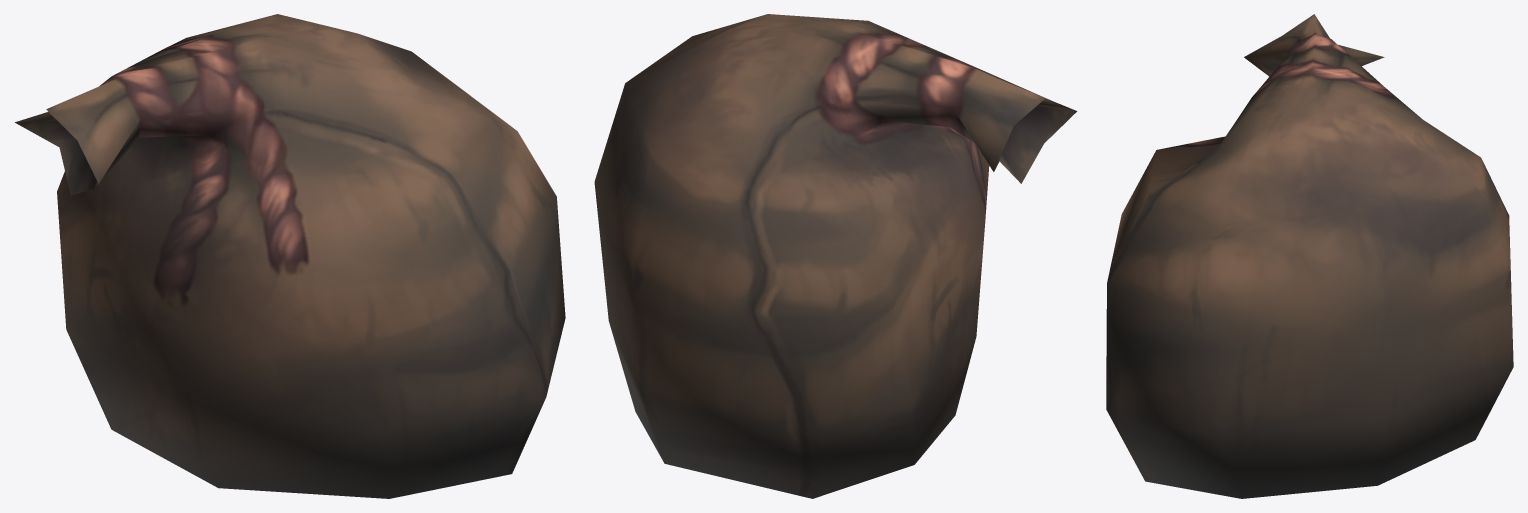
The model's file is sack_of_coal_medium.fbx.
3 views of the same model, side by side, from view 1: azimuth 30°, elevation 25°; view 2: azimuth 150°, elevation 25°; view 3: azimuth 270°, elevation 25° (orthographic). The views are drawn at different scales.
Parts seen in each view (by area): view 1: sack_of_coal_medium; view 2: sack_of_coal_medium; view 3: sack_of_coal_medium.
Part boxes in pixels (left/top/right/bottom): sack_of_coal_medium: left=15, top=14, right=565, bottom=498; sack_of_coal_medium: left=594, top=14, right=1077, bottom=498; sack_of_coal_medium: left=1106, top=14, right=1513, bottom=498.
Size of the model in its own units: 72.03 by 61.77 by 65.55.
